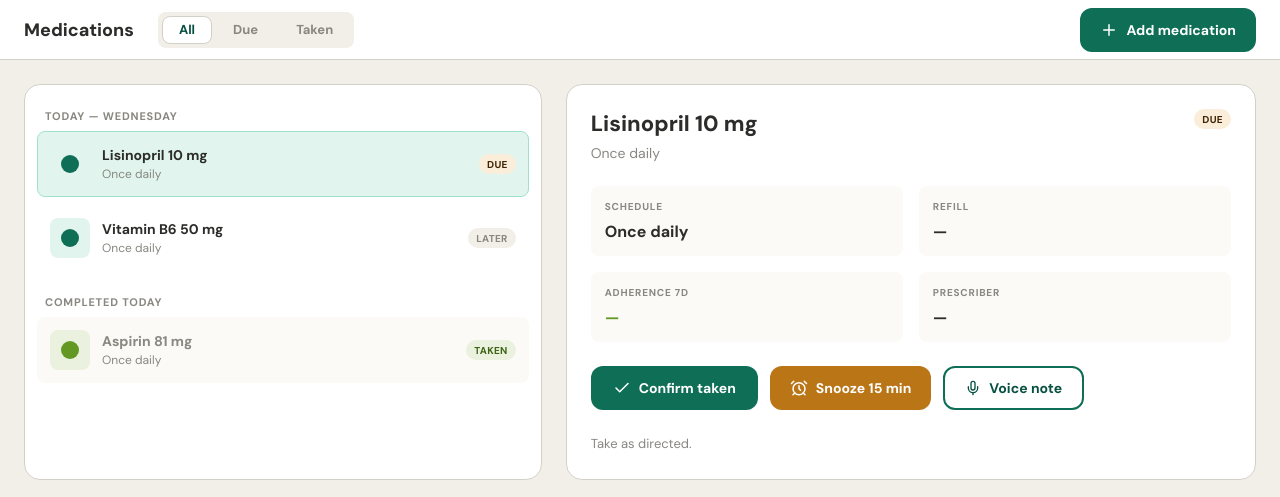
it: MedicationsScreen › marks the selected medication taken via the two-tap confirm
This screenshot has width=1280, height=497.
Click the option "Lisinopril 10 mg Once daily DUE" at point(70, 164), box [37,131,529,197]
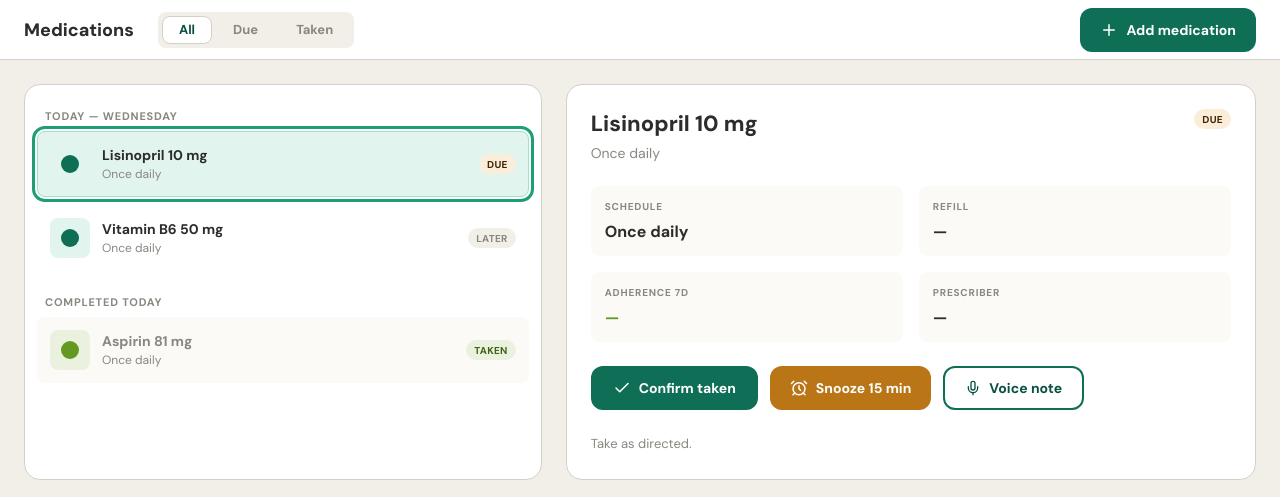
Click the button "Confirm taken" at point(674, 388), box [591,366,758,410]
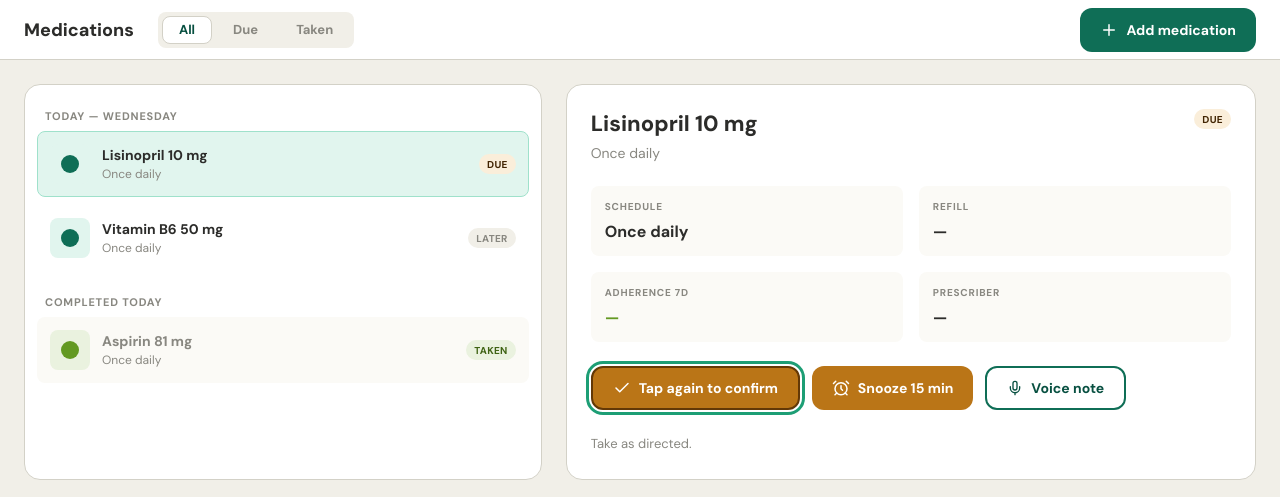
Click the button "Tap again to confirm" at point(695, 388), box [591,366,800,410]
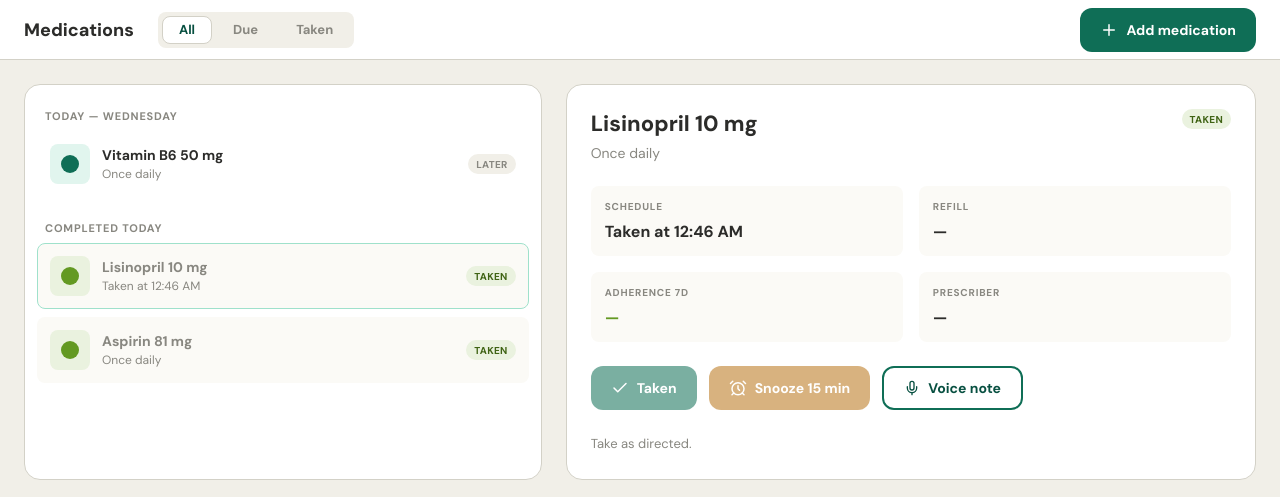
Expected: the button "Taken" is disabled, [591,366,697,410]
